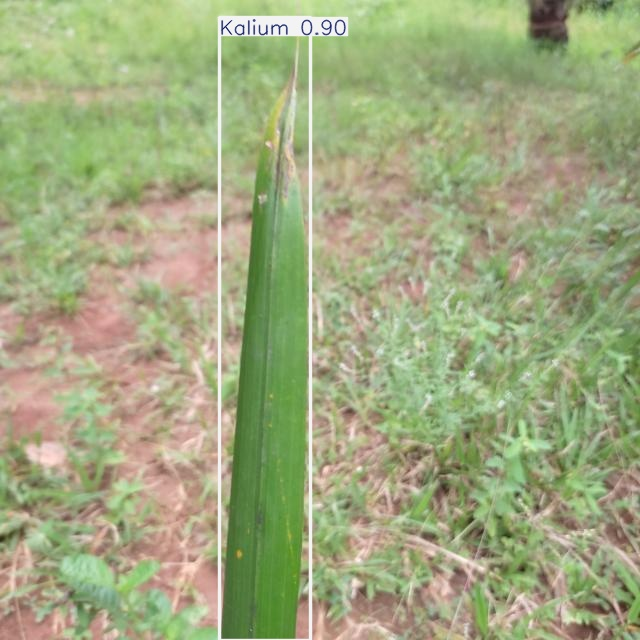Kalium: (219, 18, 311, 640)
